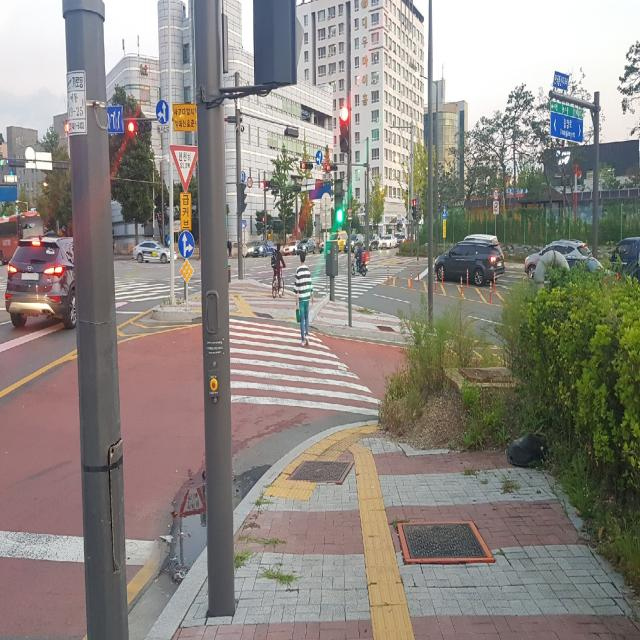빨간불: (413, 200, 416, 222)
횡단보도: (230, 319, 360, 408), (282, 264, 411, 301), (117, 282, 158, 300)
